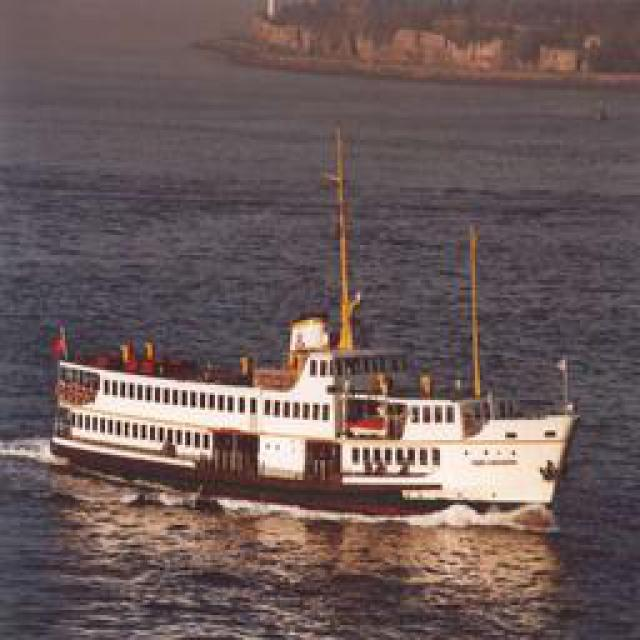Ship: (54, 263, 577, 528)
